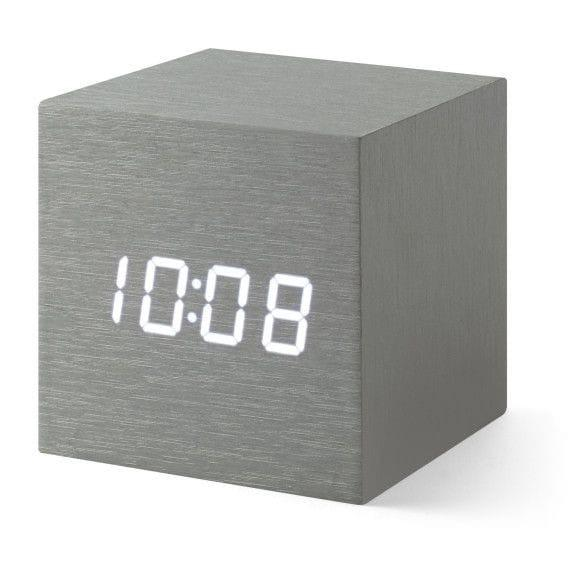cubos: (20, 40, 527, 514)
